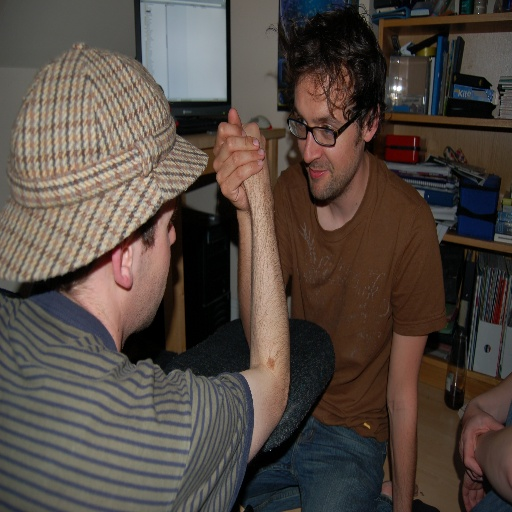hand: (212, 120, 264, 210), (456, 410, 506, 480), (461, 471, 489, 511)
